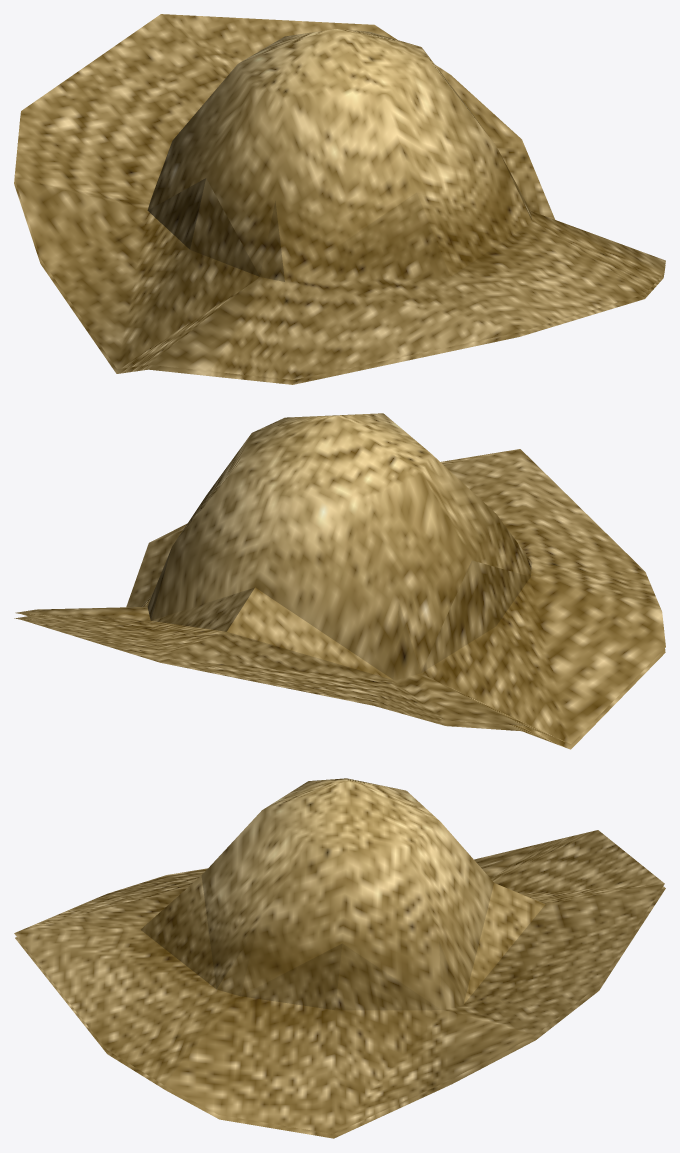
Rendered from hele_straw_hat.dae.
3 views of the same model, one above another, from view 1: azimuth 30°, elevation 25°; view 2: azimuth 150°, elevation 25°; view 3: azimuth 270°, elevation 25° (orthographic). The views are drawn at different scales.
Parts seen in each view (by area): view 1: hellenes_straw_hat001; view 2: hellenes_straw_hat001; view 3: hellenes_straw_hat001.
Part boxes in pixels (left/top/right/bottom): hellenes_straw_hat001: left=14, top=14, right=665, bottom=384; hellenes_straw_hat001: left=14, top=413, right=665, bottom=749; hellenes_straw_hat001: left=14, top=778, right=665, bottom=1138.
Bounding box in the file's own units: 0.8501 × 0.4459 × 1.03.
